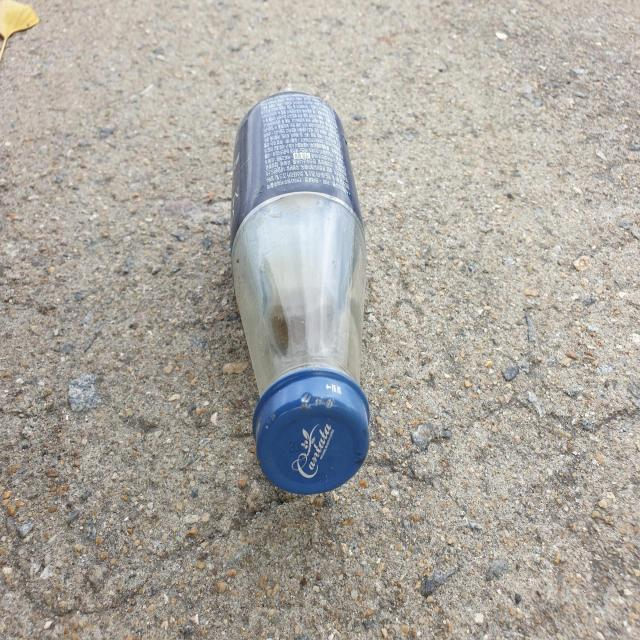glass: (230, 91, 370, 494)
